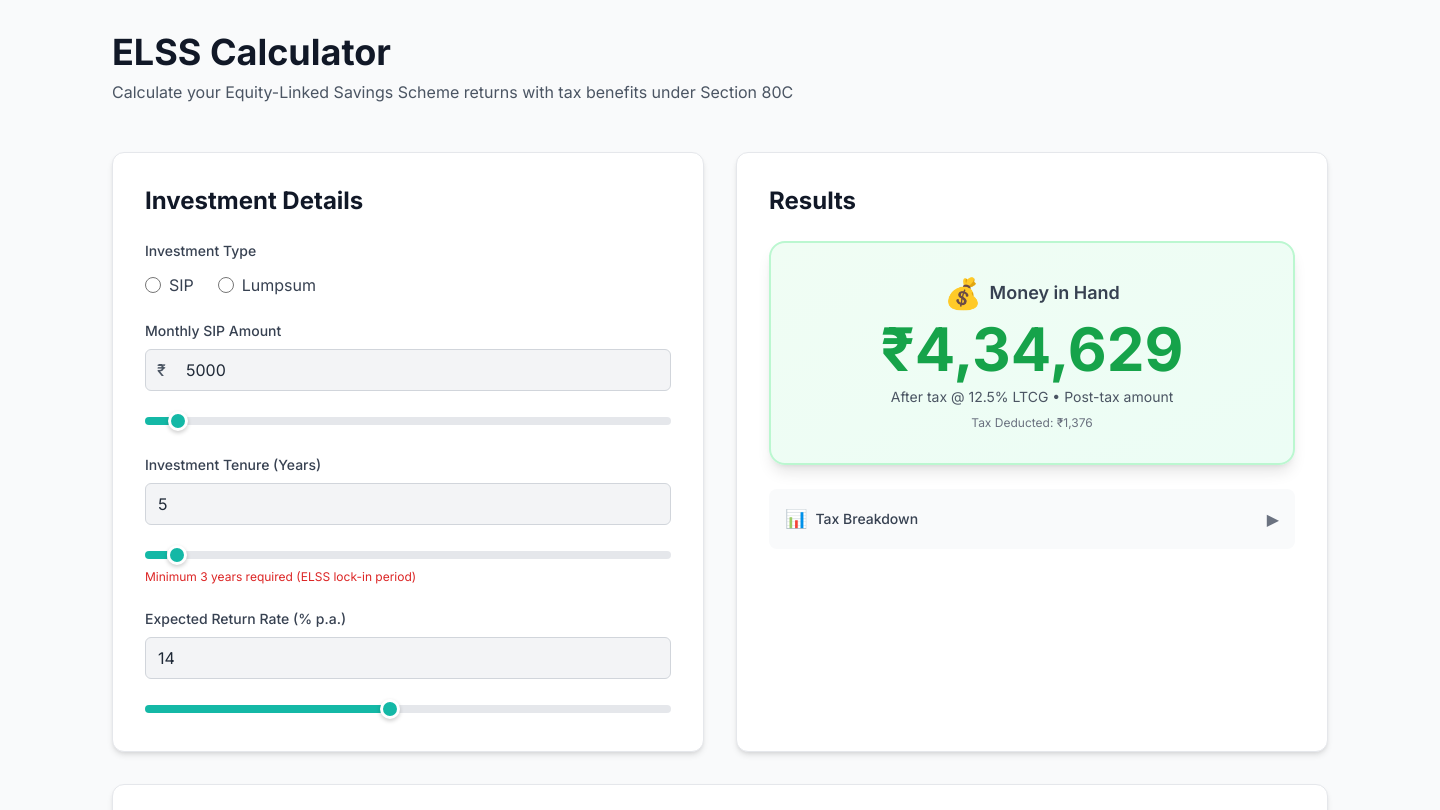
Test: ELSS Calculator › ELSS-08 / ELSS-09: Validation › ELSS-08: should show error for amount below ₹500
Type "499" into the number field with placeholder "5000" below "Monthly SIP Amount" at (408, 370), box [145, 349, 671, 391]
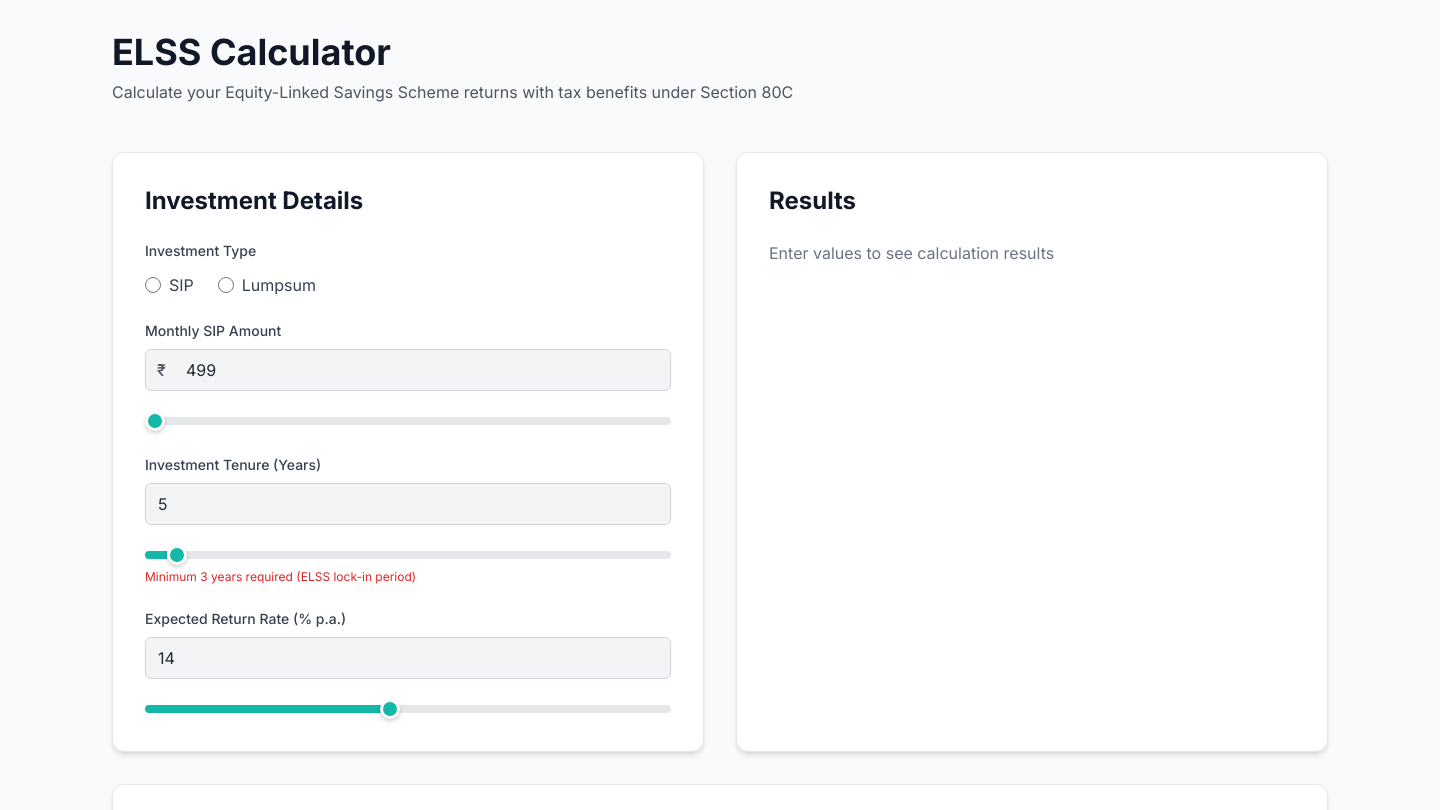
Leave the number field with placeholder "5000" below "Monthly SIP Amount", box [145, 349, 671, 391]
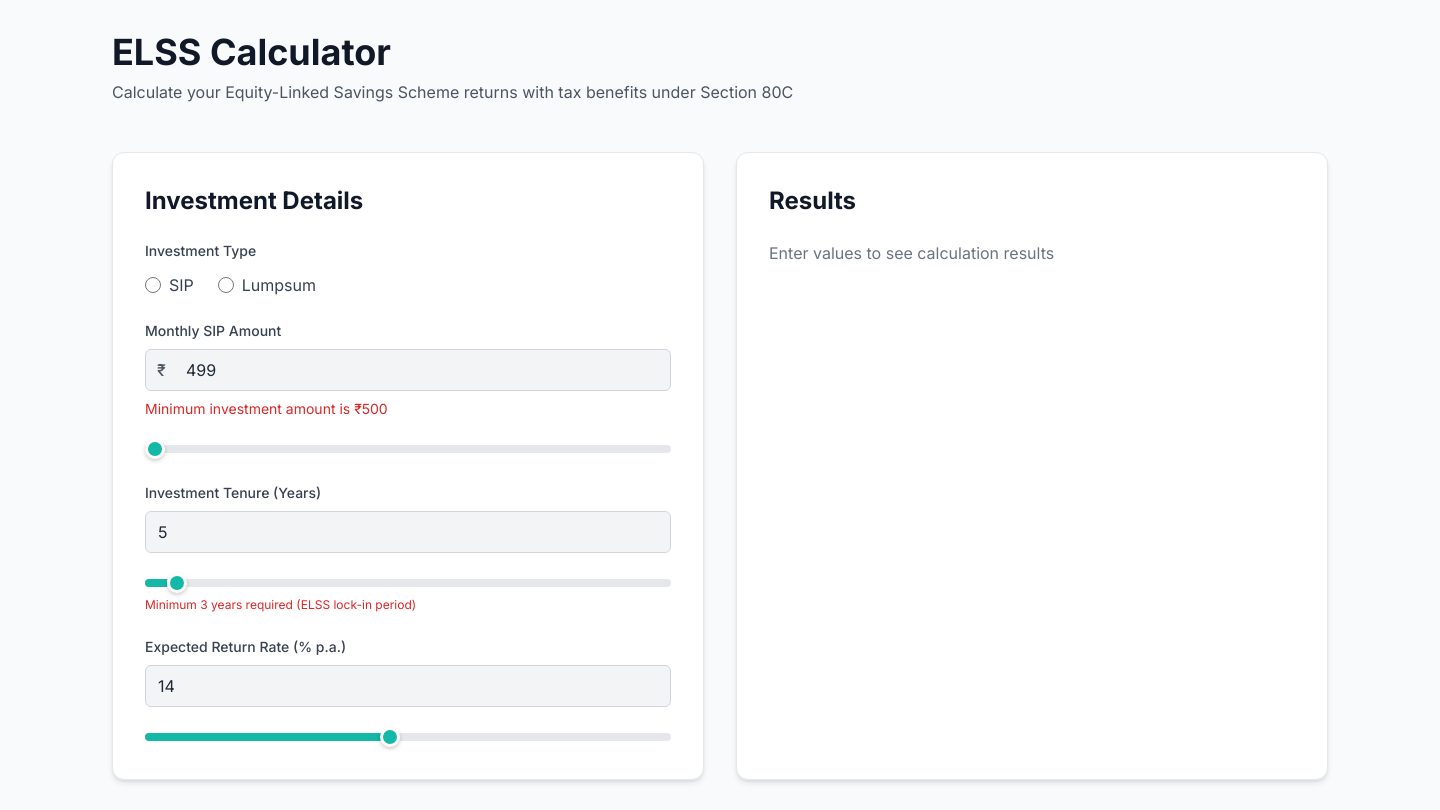
Expected: the text "Minimum investment amount is ₹500" is shown, [145, 400, 388, 417]
